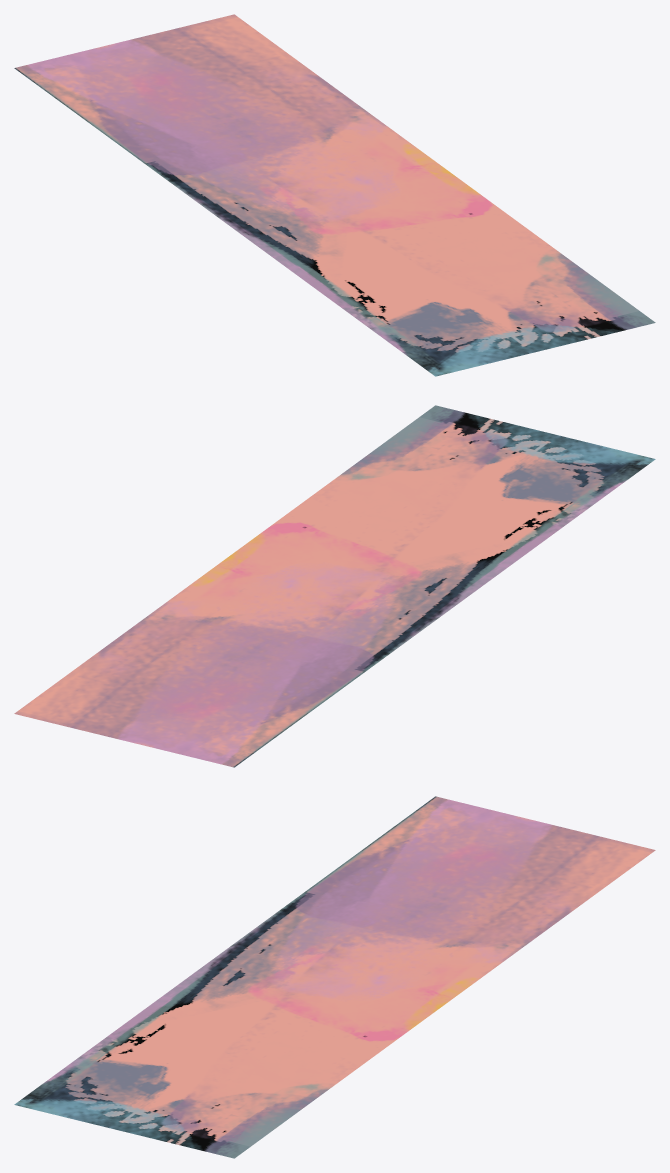
File: S_BrushStroke_PinkOrange.fbx
3 views of the same model, one above another, from view 1: azimuth 30°, elevation 25°; view 2: azimuth 150°, elevation 25°; view 3: azimuth 330°, elevation 25° (orthographic).
Parts seen in each view (by area): view 1: S_BrushStroke_PinkOrange; view 2: S_BrushStroke_PinkOrange; view 3: S_BrushStroke_PinkOrange.
Part boxes in pixels (x1,y1,x2,y2): S_BrushStroke_PinkOrange: [14, 14, 655, 376]; S_BrushStroke_PinkOrange: [14, 405, 655, 767]; S_BrushStroke_PinkOrange: [14, 796, 655, 1158].
Size of the model in its own units: 0.5865 by 2.22e-16 by 1.94.
